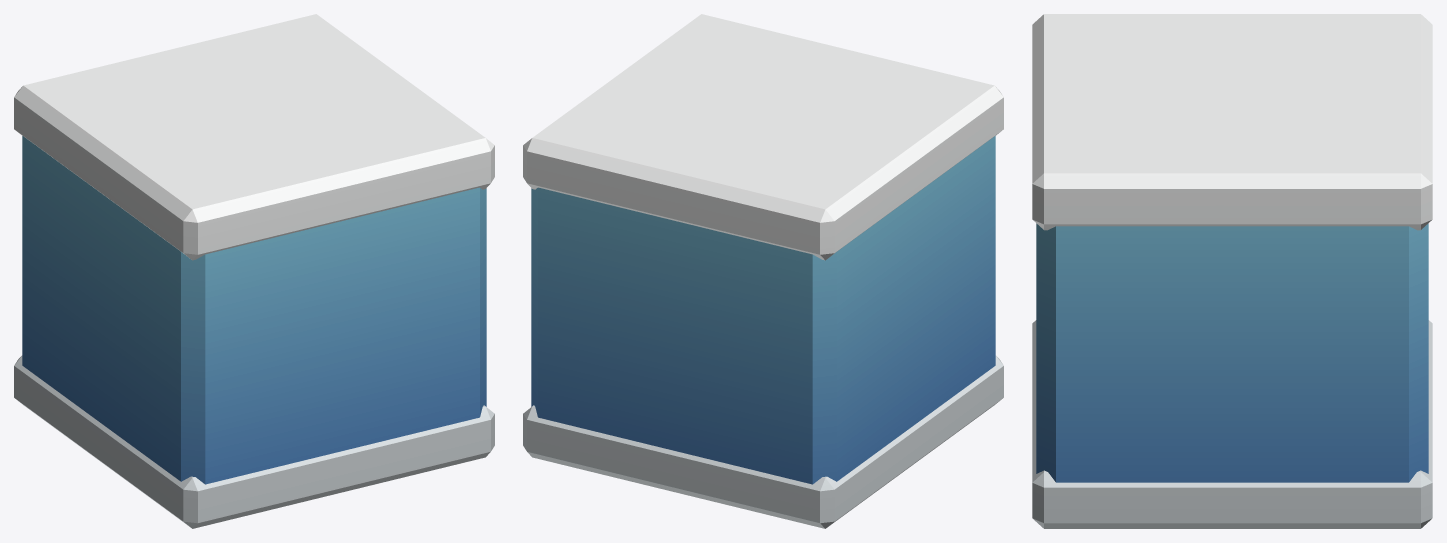
Rendered from laje.glb.
The picture shows the model from 3 angles, left to right: view 1: azimuth 30°, elevation 25°; view 2: azimuth 150°, elevation 25°; view 3: azimuth 270°, elevation 25°; orthographic projection. The views are drawn at different scales.
Parts seen in each view (by area): view 1: laje_corpo; view 2: laje_corpo; view 3: laje_corpo.
Boxes of the visible parts, box(x1,y1,x2,y2) form: laje_corpo: box(14, 14, 494, 528); laje_corpo: box(523, 14, 1003, 528); laje_corpo: box(1032, 14, 1432, 528).
Size of the model in its own units: 1.02 by 1 by 1.02.
Materials: 2 (2 with a texture image).
